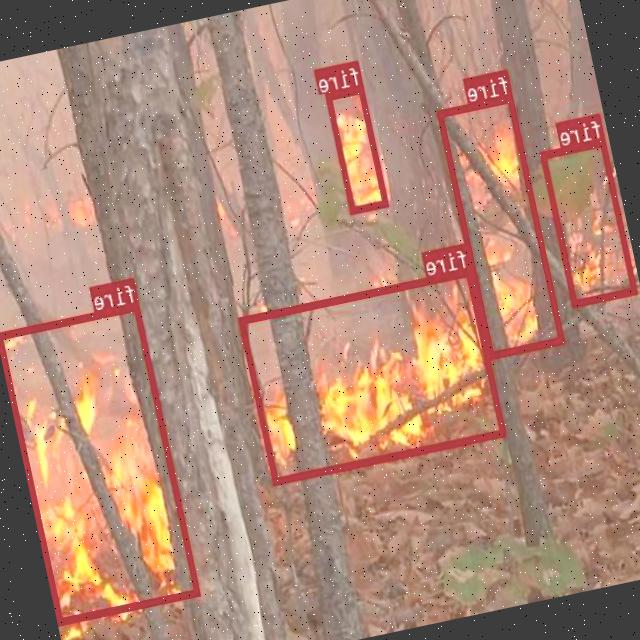fire: (0, 301, 201, 623), (238, 267, 506, 484), (437, 92, 566, 358), (541, 137, 638, 305), (326, 85, 389, 212)
